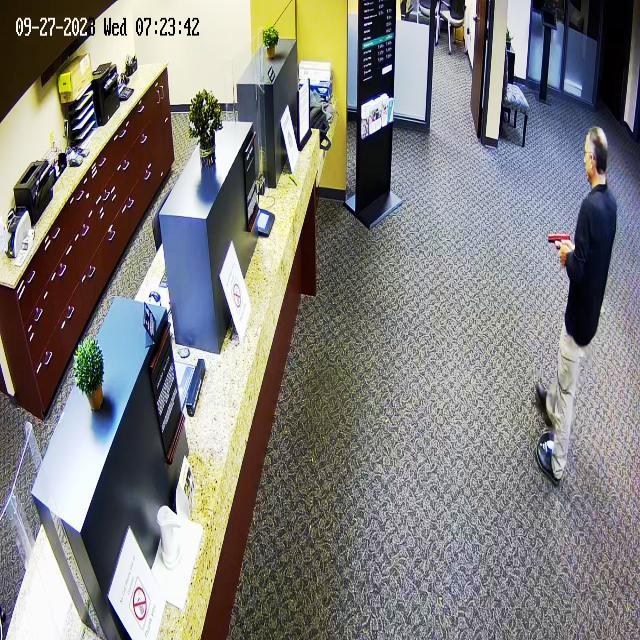Gun: (536, 224, 581, 262)
